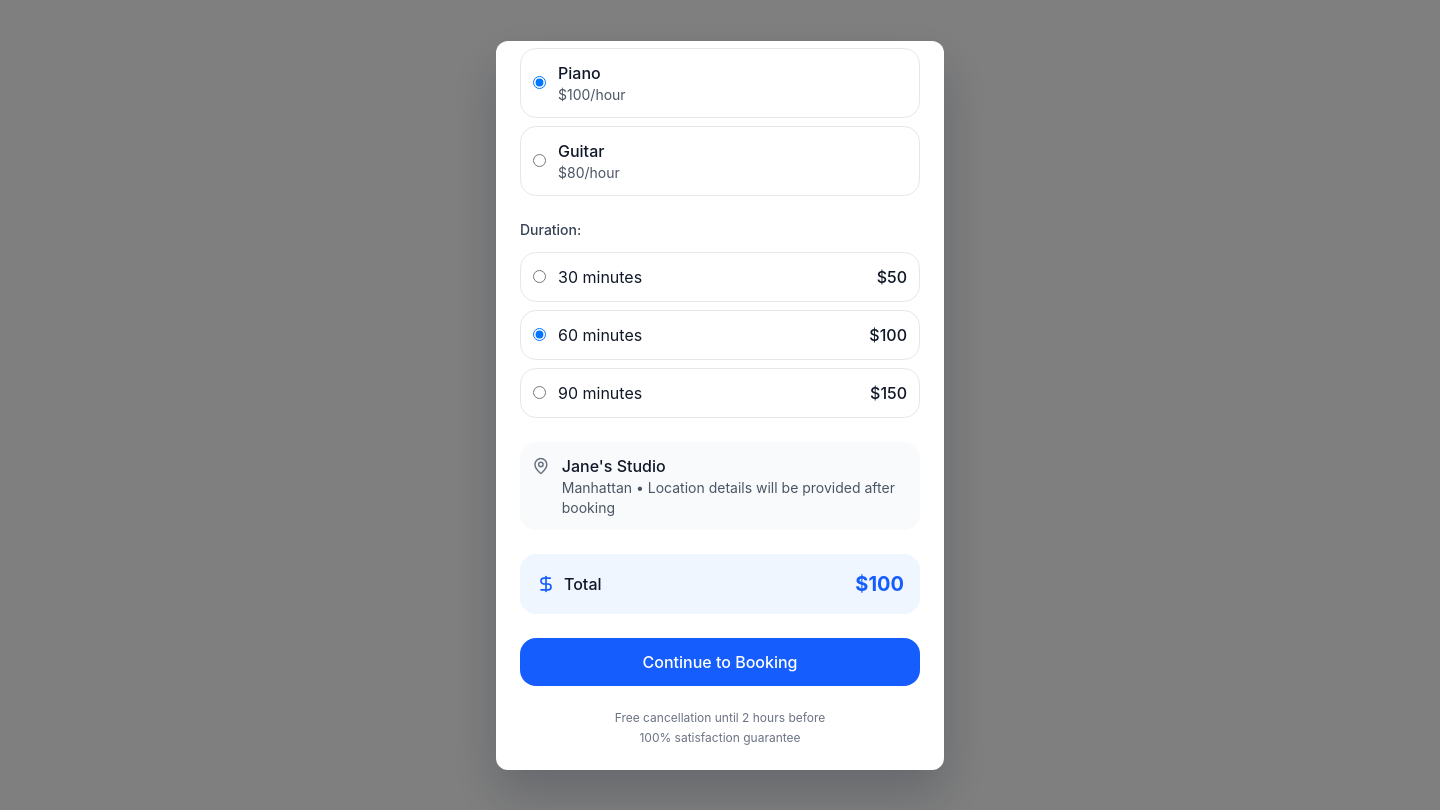
it: BookingModal › auth state changes › shows booking form after auth flips to true and continue is clicked
(page scrolled)
Expected: the text "Your Information" is not shown
What coordinates should you click on to do the following:
click the button "Continue to Booking"
I would click on:
 (720, 662)
Its box is [520,638,920,686].
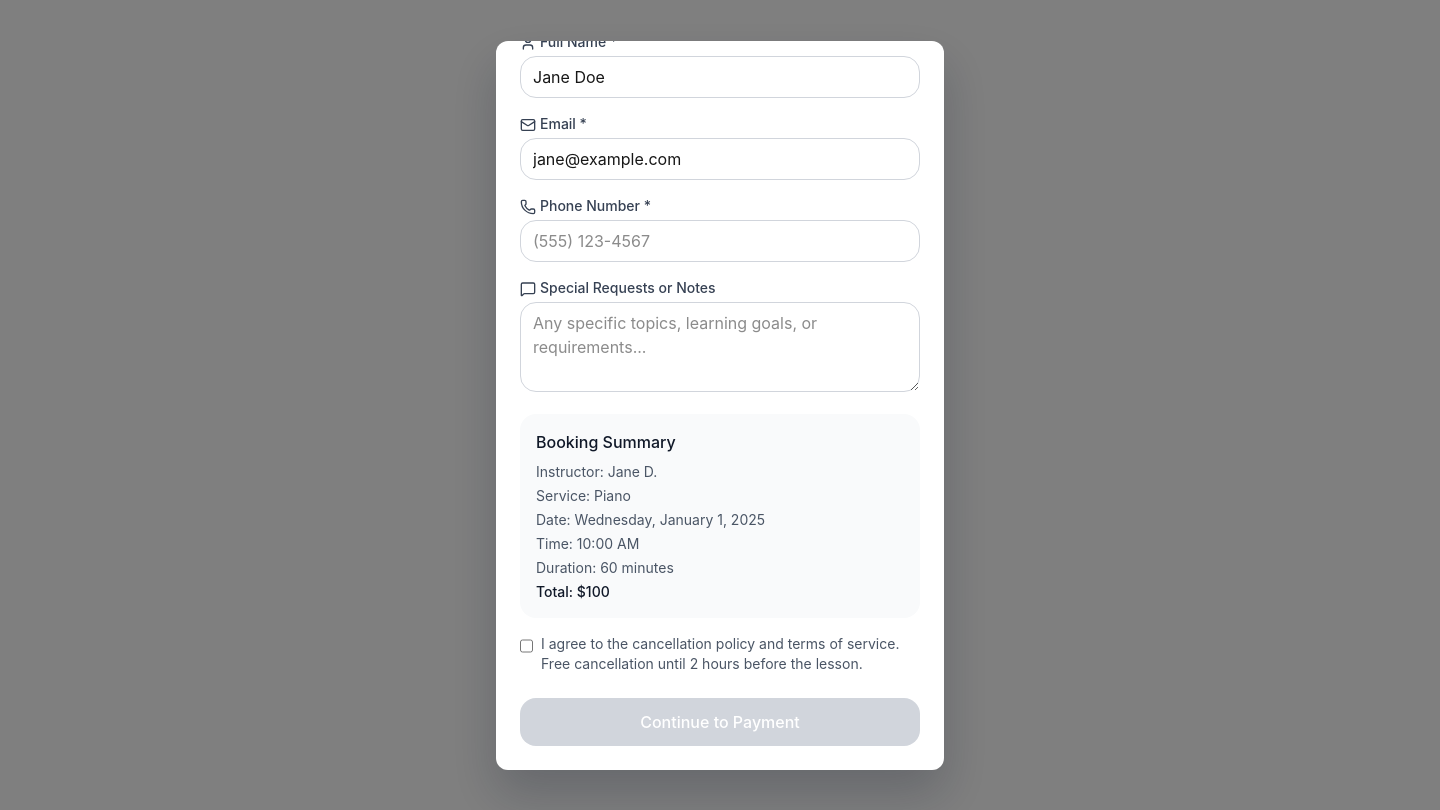
Result: the field labelled "Full Name *" holds "Jane Doe" at [520,56,920,98]
Result: the field labelled "Email *" holds "jane@example.com" at [520,138,920,180]
